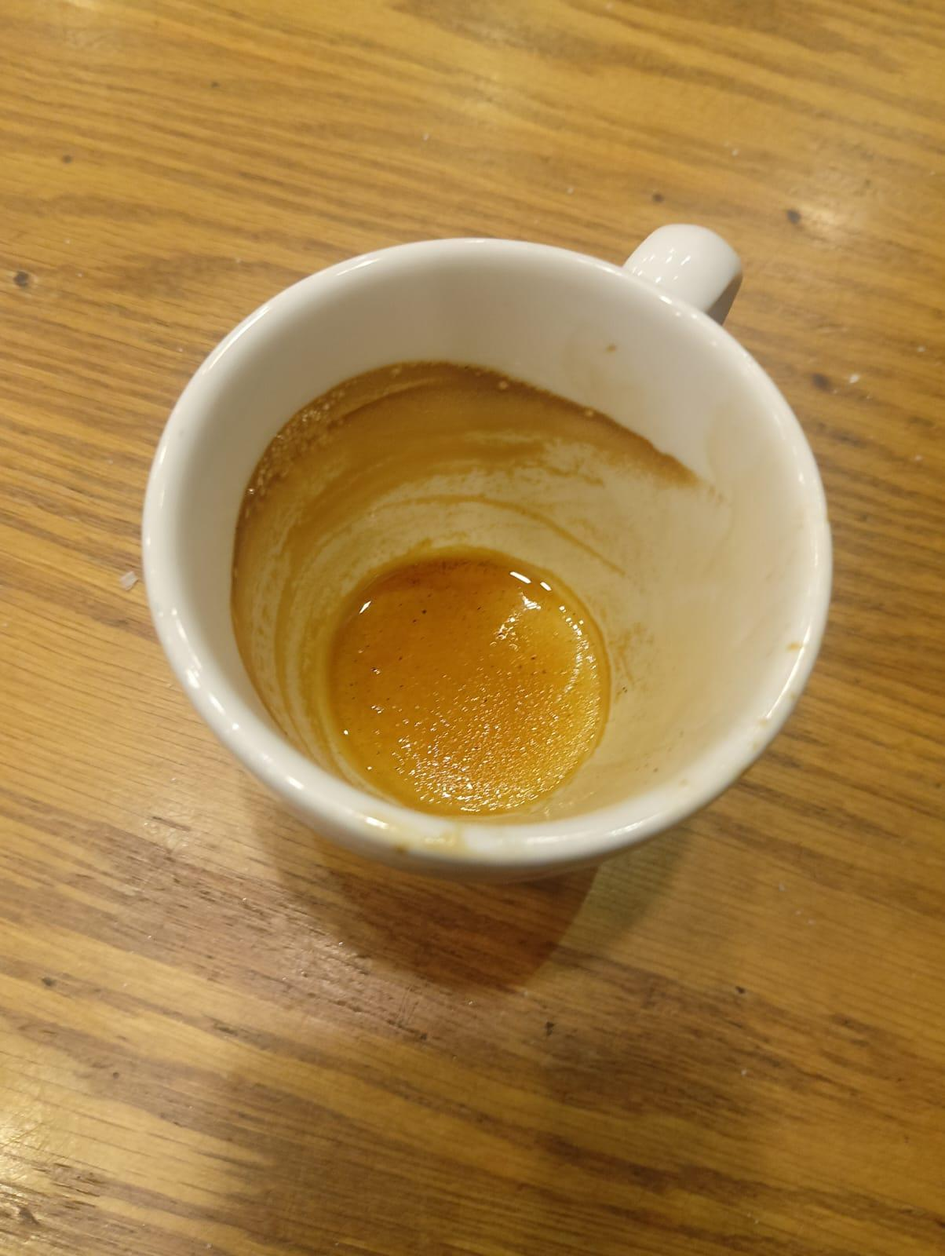cup: (143, 226, 830, 879)
